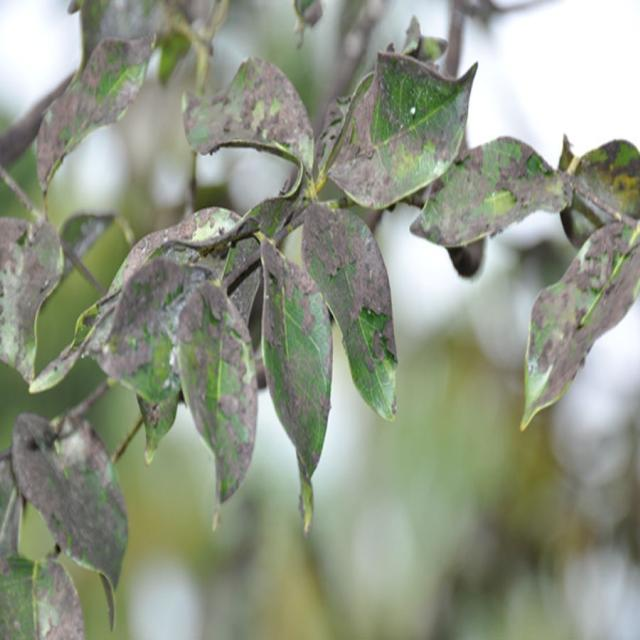Sooty Mold: (2, 12, 637, 634)
